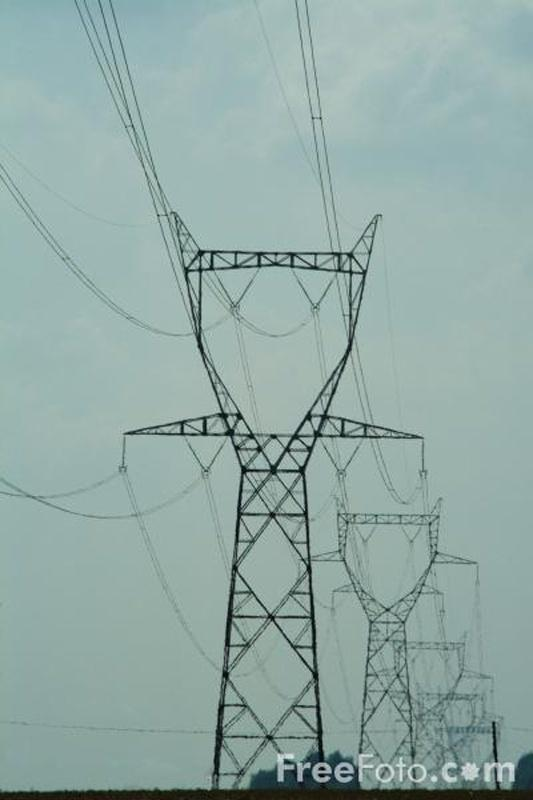power_tower: (120, 210, 424, 789), (332, 501, 442, 772), (384, 627, 495, 788), (412, 686, 515, 786), (438, 719, 518, 787)
